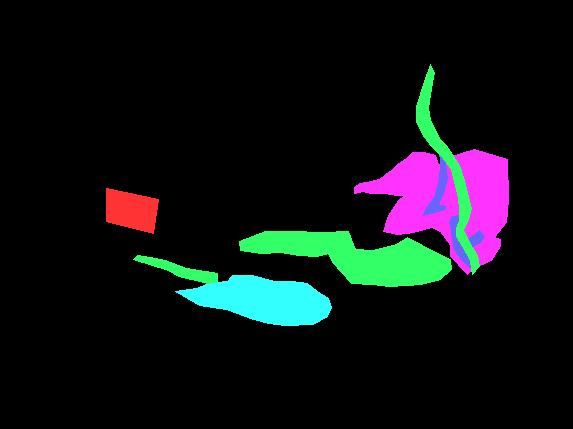Broken part: (416, 64, 479, 274), (239, 231, 451, 286), (133, 255, 217, 283)
Dent: (383, 149, 508, 274), (354, 152, 438, 196)
Flaking: (175, 275, 331, 325)
Missing part: (106, 188, 158, 233)
Scratch: (423, 150, 447, 215), (449, 215, 472, 268), (467, 230, 484, 246)
